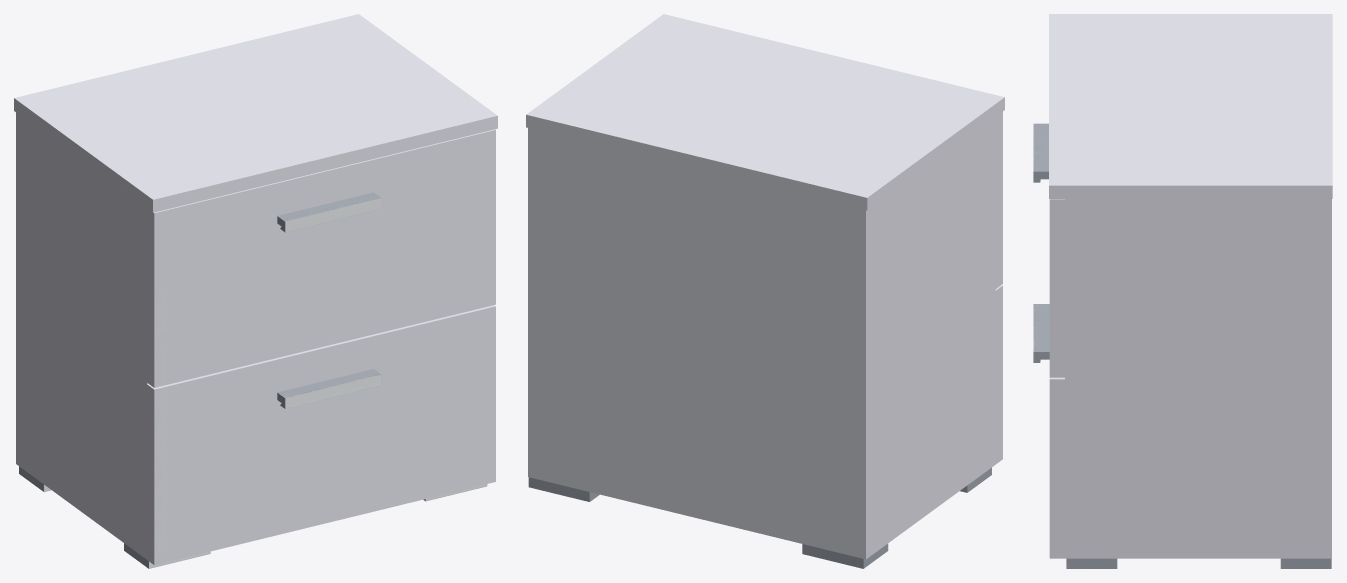
File: nightstand_abo_B07GFWF2CX.glb
3 renders of one model, left to right at view 1: azimuth 30°, elevation 25°; view 2: azimuth 150°, elevation 25°; view 3: azimuth 270°, elevation 25°, orthographic. The views are drawn at different scales.
Parts seen in each view (by area): view 1: RootNode; view 2: RootNode; view 3: RootNode.
Boxes of the visible parts, x1=… form: RootNode: x1=14, y1=14, x2=497, y2=568; RootNode: x1=526, y1=14, x2=1004, y2=568; RootNode: x1=1033, y1=14, x2=1332, y2=568.
Bounding box in the file's own units: 0.4411 × 0.4603 × 0.325.
Materials: 1 (1 with a texture image).
